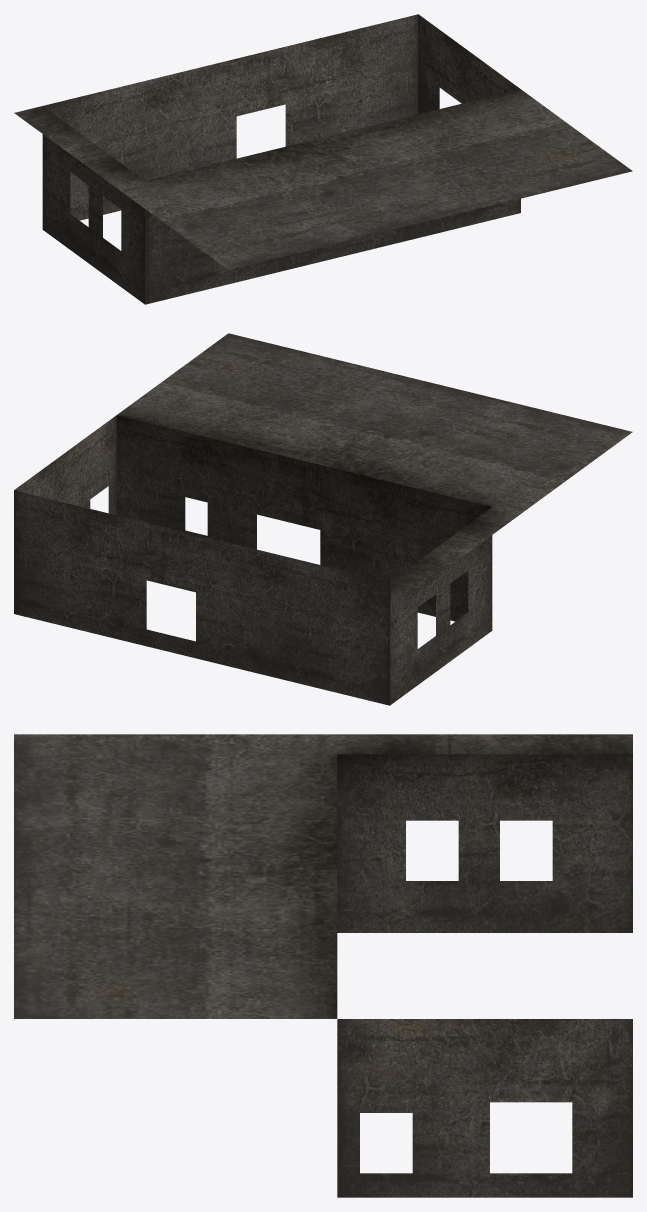
Rendered from GroundBase.FBX.
3 views of the same model, one above another, from view 1: azimuth 30°, elevation 25°; view 2: azimuth 150°, elevation 25°; view 3: azimuth 270°, elevation 25° (orthographic). The views are drawn at different scales.
Visible parts, largest first — view 1: GroundBase; view 2: GroundBase; view 3: GroundBase.
Part boxes in pixels (left/top/right/bottom): GroundBase: left=14, top=14, right=632, bottom=304; GroundBase: left=14, top=333, right=632, bottom=705; GroundBase: left=14, top=734, right=632, bottom=1197.
Size of the model in its own units: 1748 by 511 by 1606.
Materials: 1 (1 with a texture image).
